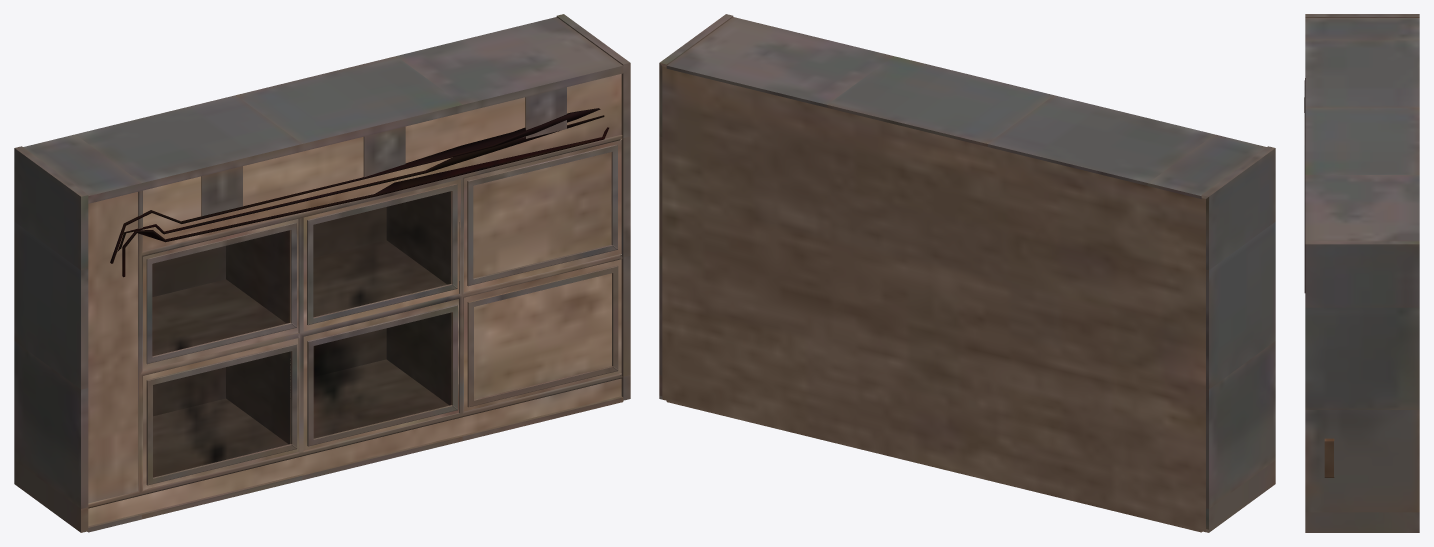
Rendered from bw-vault.lod1.glb.
The picture shows the model from 3 angles, left to right: view 1: azimuth 30°, elevation 25°; view 2: azimuth 150°, elevation 25°; view 3: azimuth 270°, elevation 25°; orthographic projection. The views are drawn at different scales.
Visible parts, largest first — view 1: Body.002_Material.003_0; view 2: Body.002_Material.003_0; view 3: Body.002_Material.003_0.
Boxes of the visible parts, bbox=[...] form: Body.002_Material.003_0: bbox=[14, 14, 630, 532]; Body.002_Material.003_0: bbox=[659, 14, 1275, 532]; Body.002_Material.003_0: bbox=[1304, 14, 1419, 532].
Bounding box in the file's own units: 3.98 × 2.3 × 0.8288.
1 material, 1 textured.
